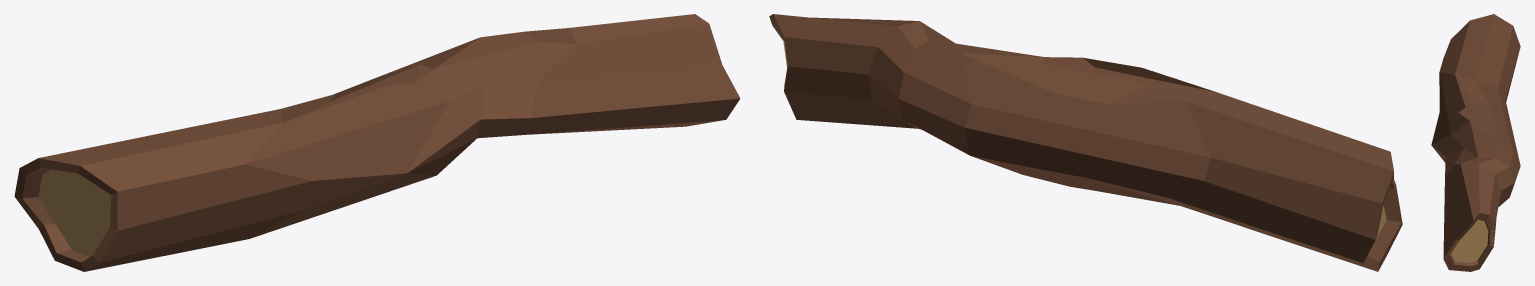
The model's file is WoodLog.fbx.
3 views of the same model, side by side, from view 1: azimuth 30°, elevation 25°; view 2: azimuth 150°, elevation 25°; view 3: azimuth 270°, elevation 25° (orthographic). The views are drawn at different scales.
Visible parts, largest first — view 1: WoodLog; view 2: WoodLog; view 3: WoodLog.
Boxes of the visible parts, left/top/right/bottom form: WoodLog: left=14, top=14, right=740, bottom=271; WoodLog: left=769, top=14, right=1402, bottom=271; WoodLog: left=1431, top=14, right=1520, bottom=271.
Size of the model in its own units: 160 by 27.9 by 29.97.
1 material, 1 textured.
